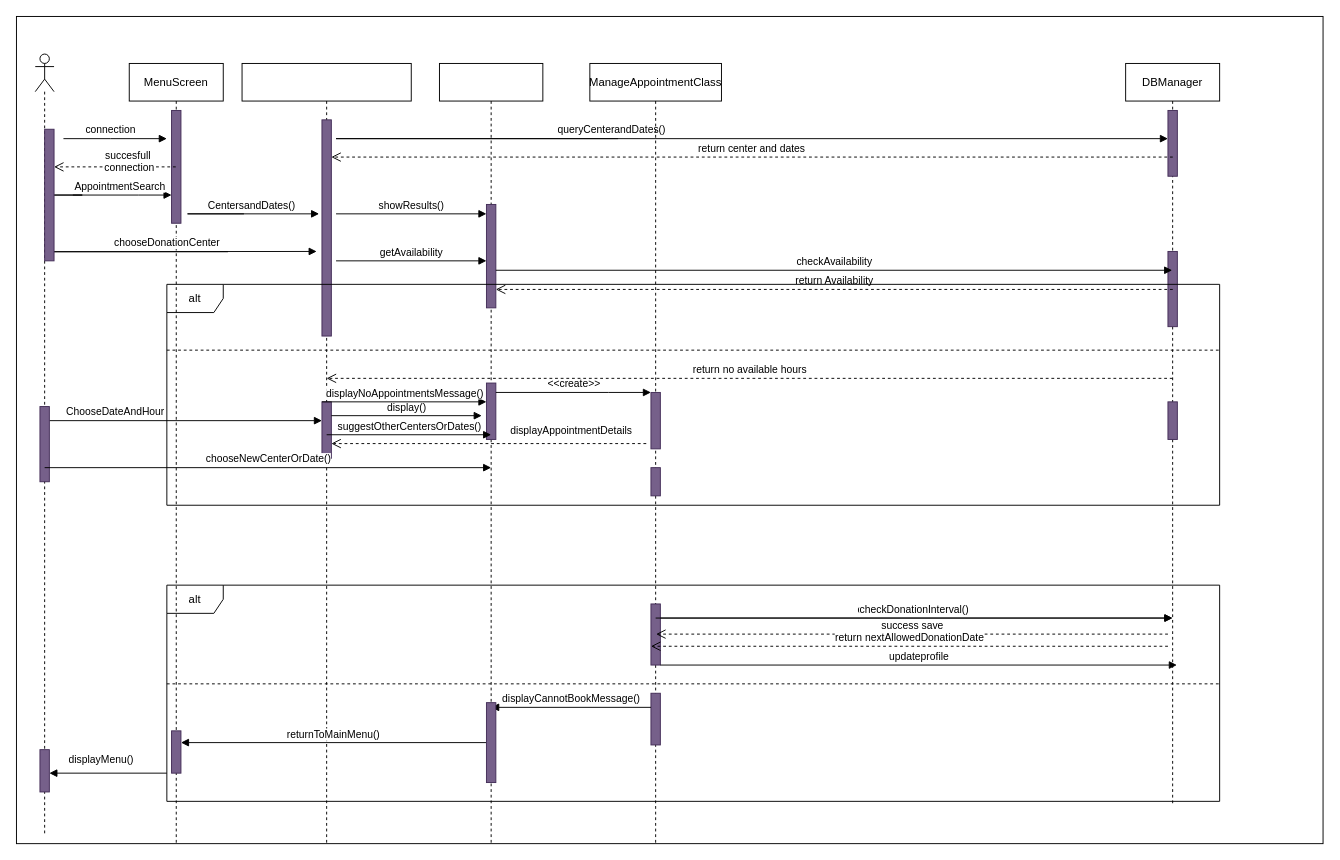
This 1340x860 diagram has some shape labels left out. Each missing label, with the centre of its shape:
ManageAppointmentSearchClass: the point at 326,453
SearchResultScreen: the point at 491,453
